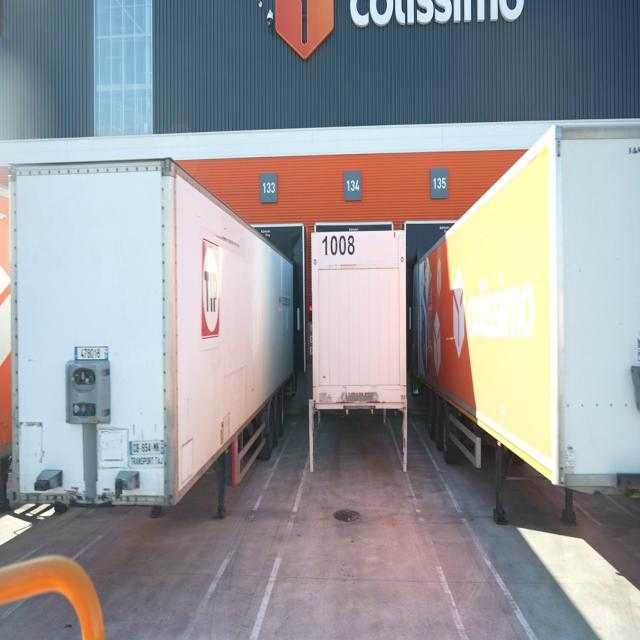Code: (322, 232, 359, 260)
